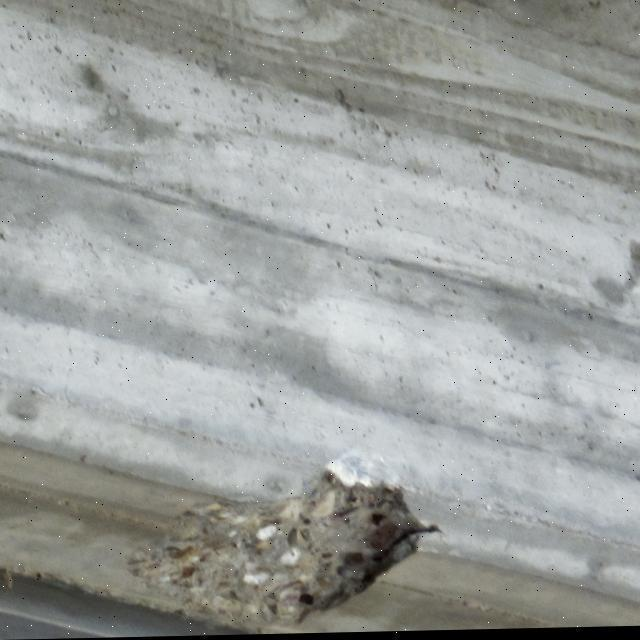D10: (157, 466, 441, 628)
